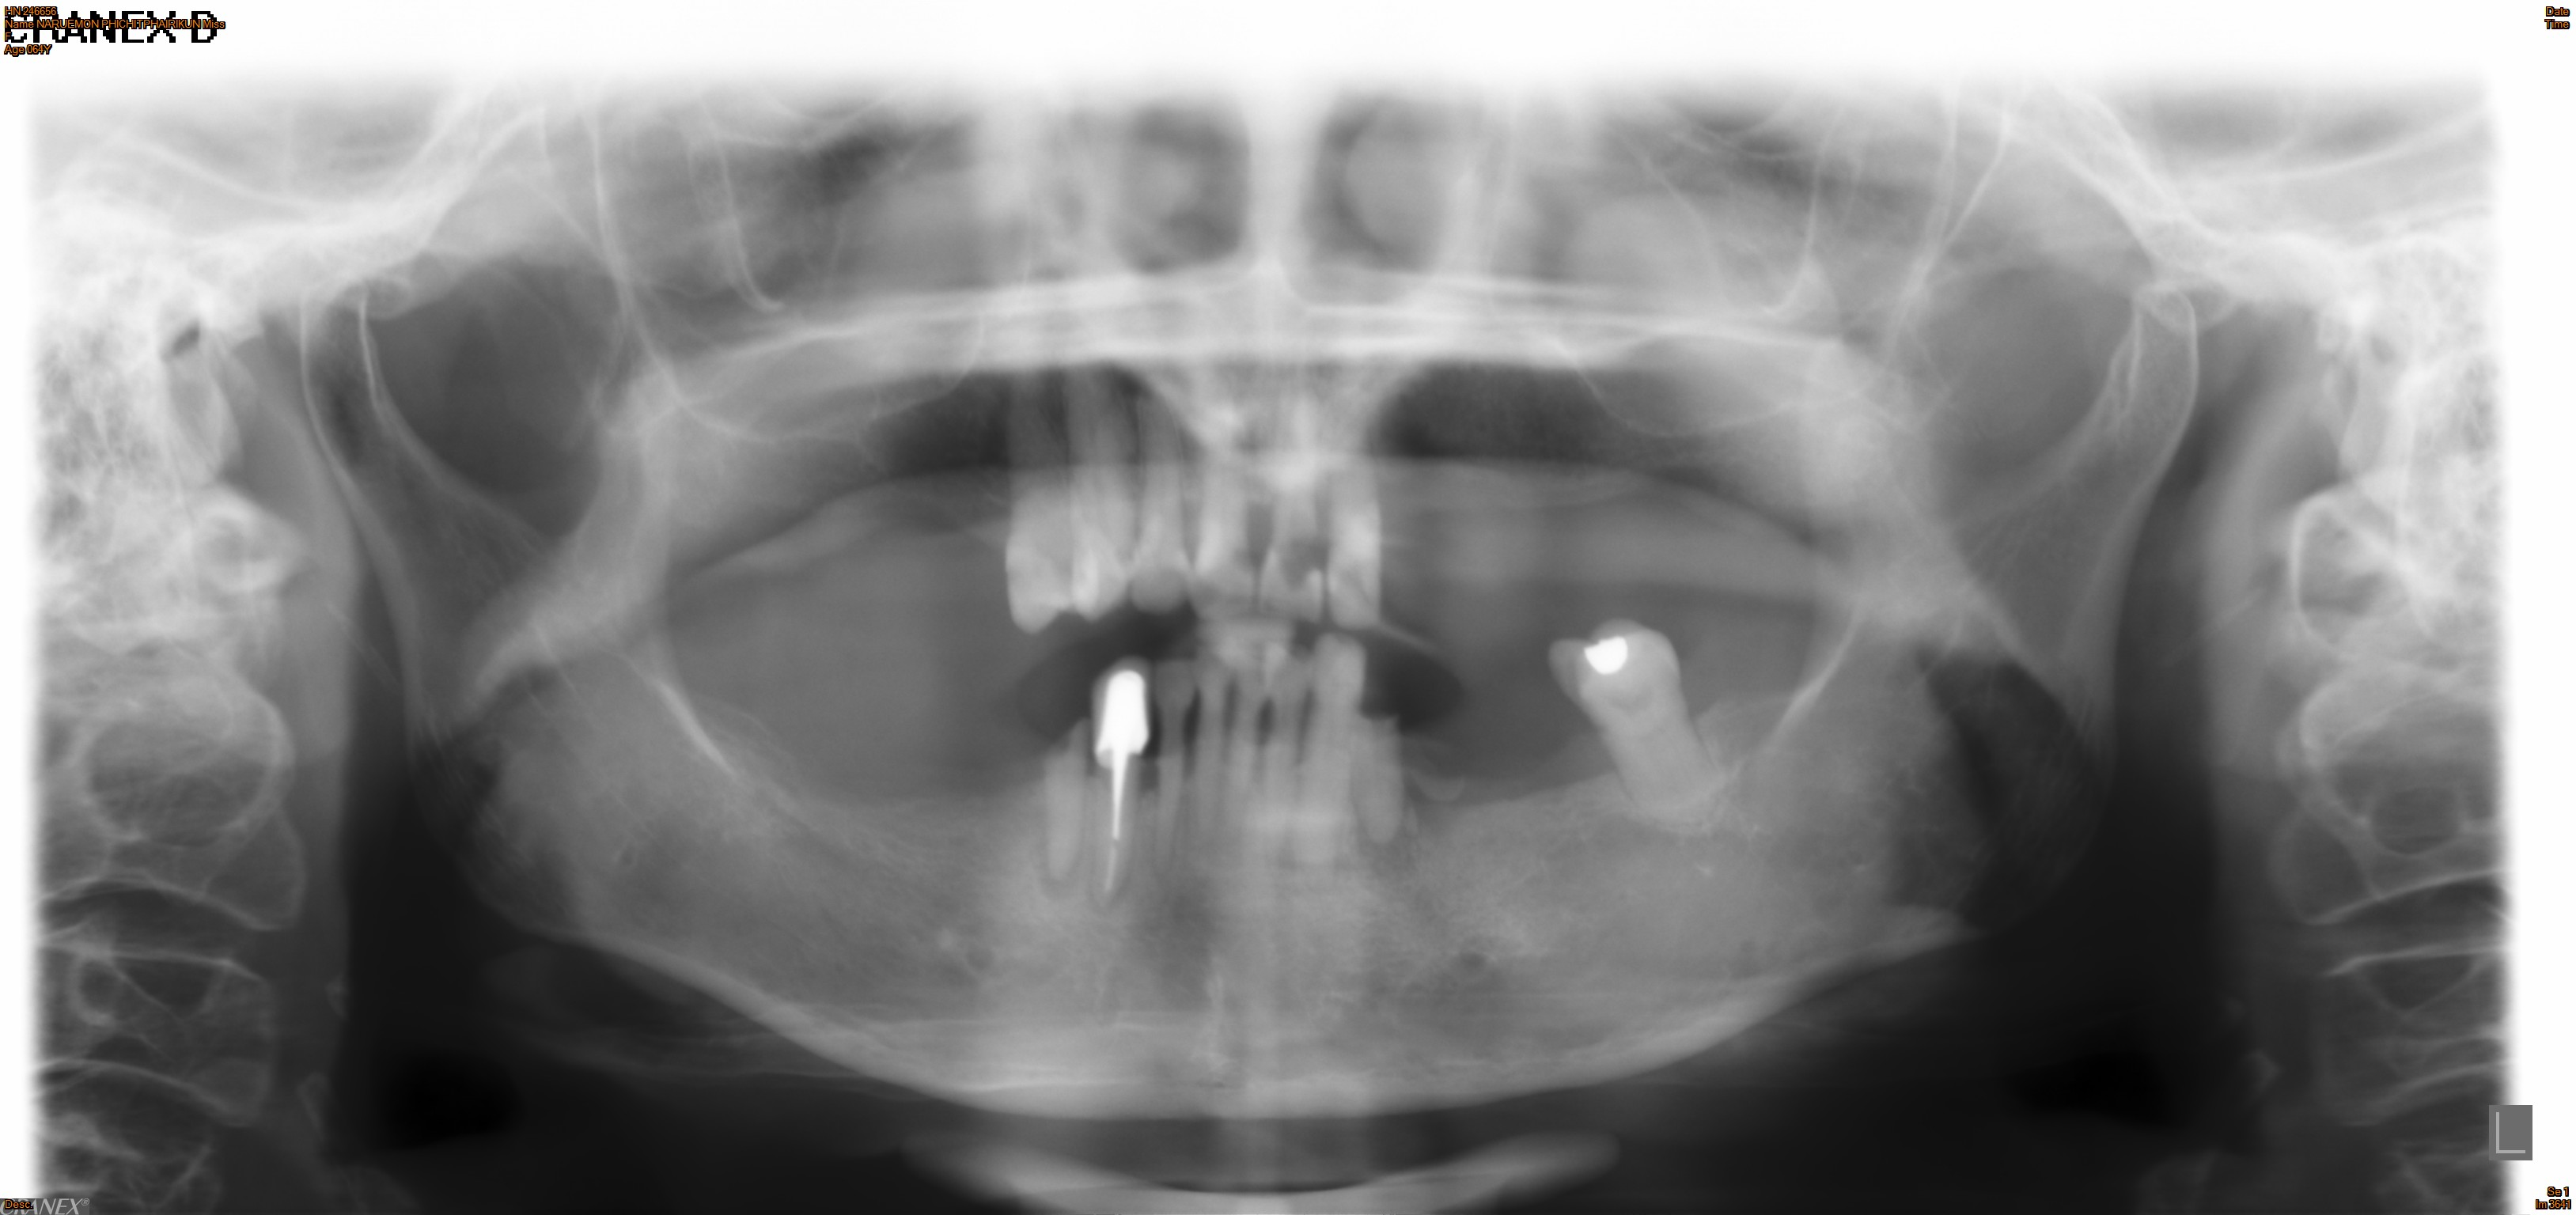periodontitis: (1539, 607, 1733, 846)
